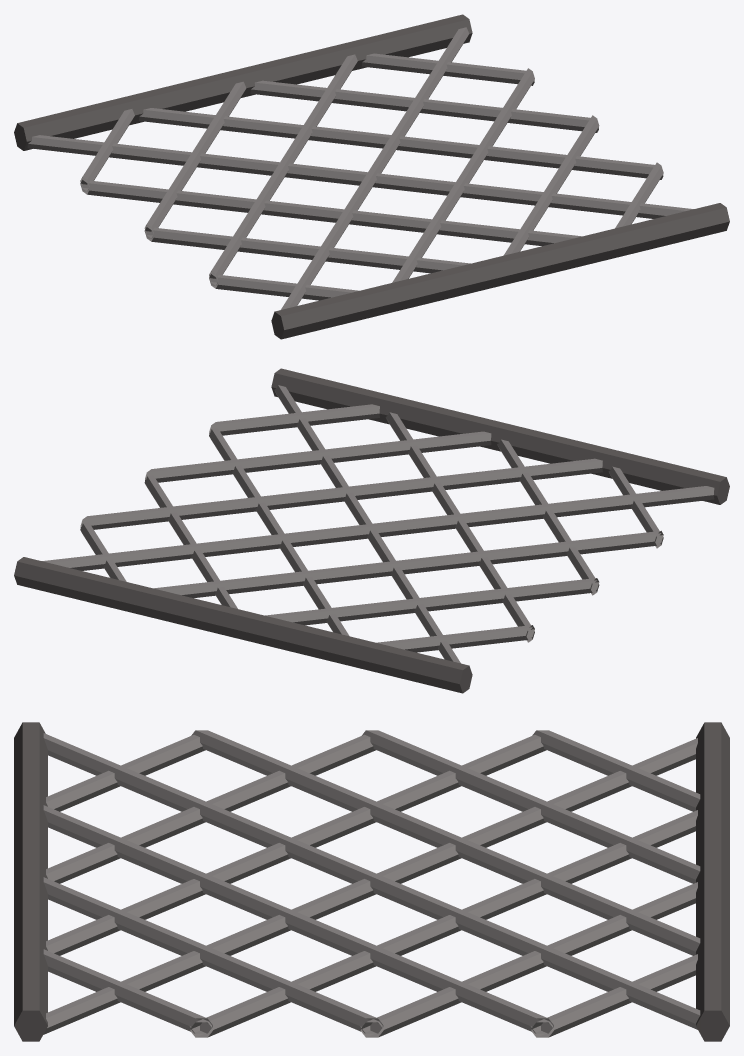
The model's file is tubeRoad2.fbx.
The picture shows the model from 3 angles, top to bottom: view 1: azimuth 30°, elevation 25°; view 2: azimuth 150°, elevation 25°; view 3: azimuth 270°, elevation 25°; orthographic projection. The views are drawn at different scales.
Parts seen in each view (by area): view 1: Cylinder.001; view 2: Cylinder.001; view 3: Cylinder.001.
Part boxes in pixels (box(x1,y1,x2,y2)): Cylinder.001: box(14, 14, 729, 339); Cylinder.001: box(14, 368, 729, 693); Cylinder.001: box(14, 722, 729, 1041).
Size of the model in its own units: 400 by 20 by 420.
